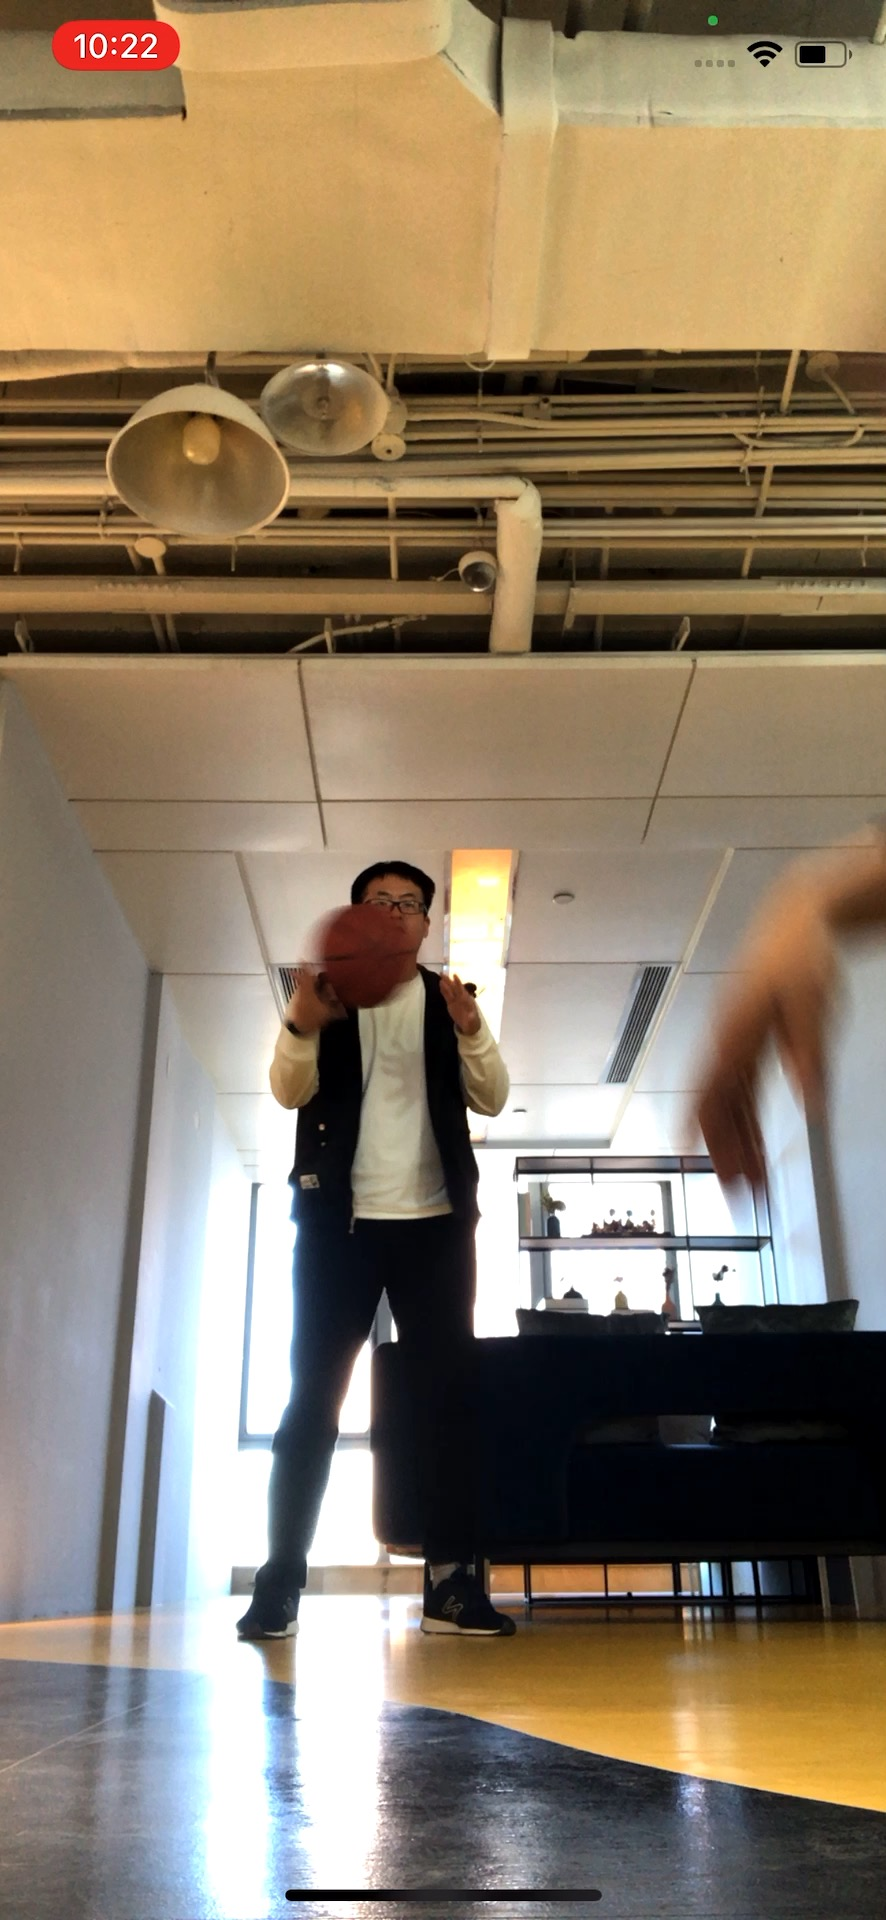ball: (315, 900, 425, 1007)
